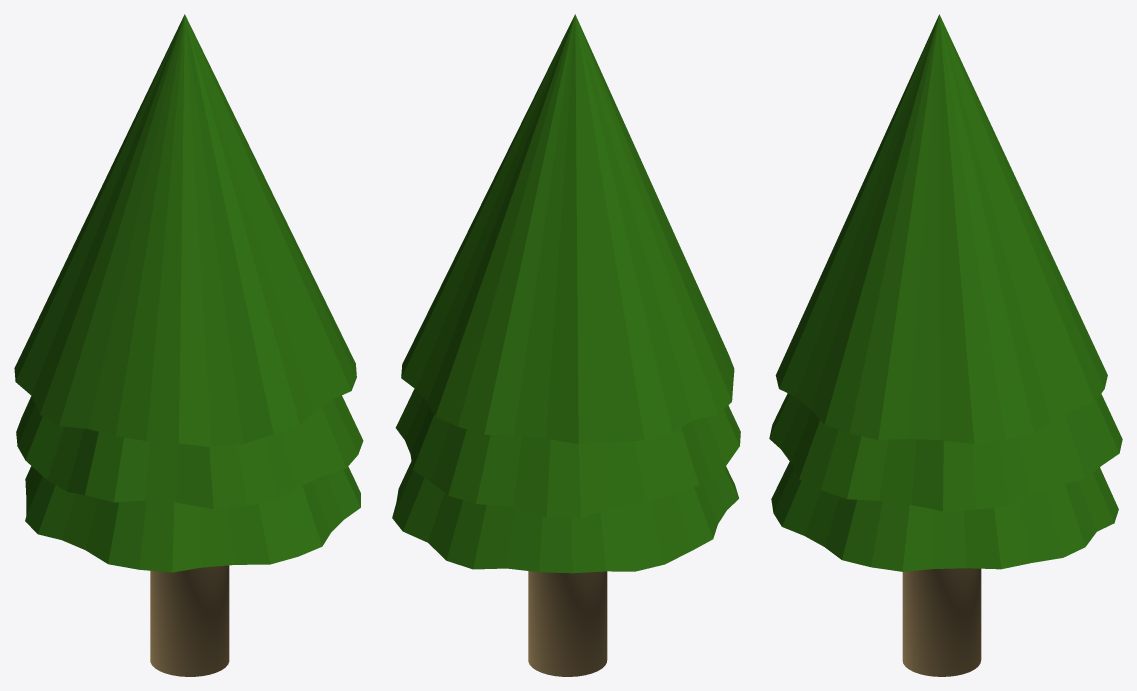
Rendered from PineTree.fbx.
3 views of the same model, side by side, from view 1: azimuth 30°, elevation 25°; view 2: azimuth 150°, elevation 25°; view 3: azimuth 270°, elevation 25° (orthographic).
Visible parts, largest first — view 1: Cone.002, Cylinder; view 2: Cone.002, Cylinder; view 3: Cone.002, Cylinder.
Boxes of the visible parts, x1=… form: Cone.002: x1=14, y1=14, x2=363, y2=572; Cylinder: x1=150, y1=565, x2=229, y2=676; Cone.002: x1=392, y1=14, x2=740, y2=573; Cylinder: x1=528, y1=571, x2=607, y2=676; Cone.002: x1=769, y1=14, x2=1122, y2=571; Cylinder: x1=902, y1=568, x2=981, y2=676.
Bounding box in the file's own units: 191 × 392 × 195.
